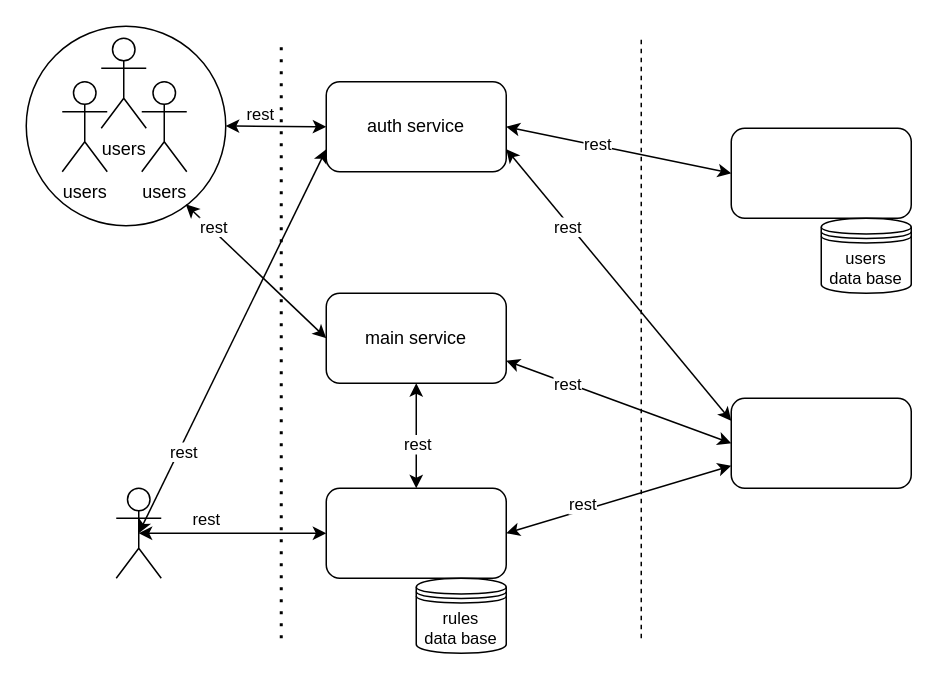
Image size: 938x680. Some labels were removed from this diagram. The centre of each missing label's shape, as x and y in pixels:
"admin" belongs at pixel 138 532.
"editor(rule service)" belongs at pixel 415 532.
"jwt service" belongs at pixel 820 442.
"user service" belongs at pixel 820 172.
